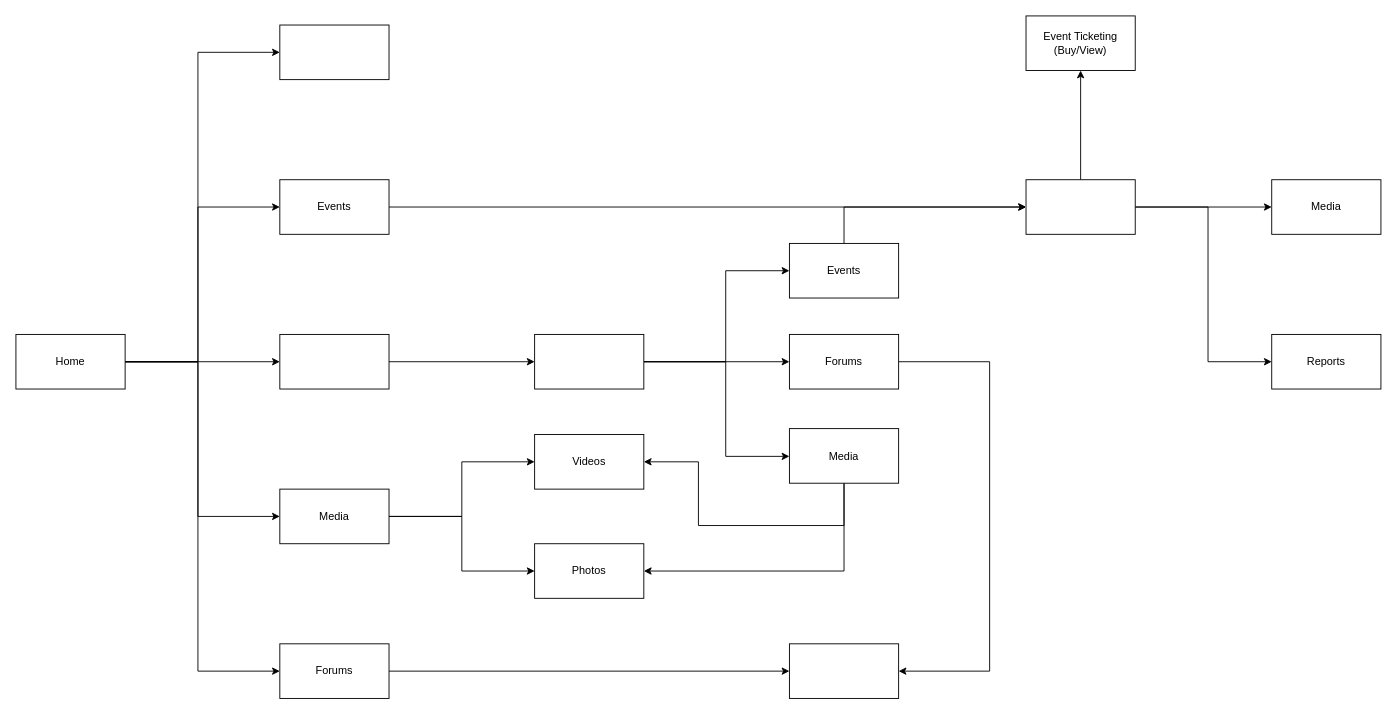
This 1397x714 diagram has some shape labels left out. The shapes that lost their labels are listed below. From the top down, each one's centre as x and y in pixels, then its label:
the point at 334,52: About
the point at 1080,206: Event Details Page
the point at 334,361: Organisations
the point at 589,361: Org Profile Page
the point at 844,670: Forum Board
